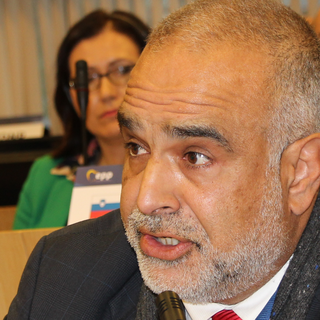eye: (173, 144, 221, 171), (120, 138, 155, 162)
